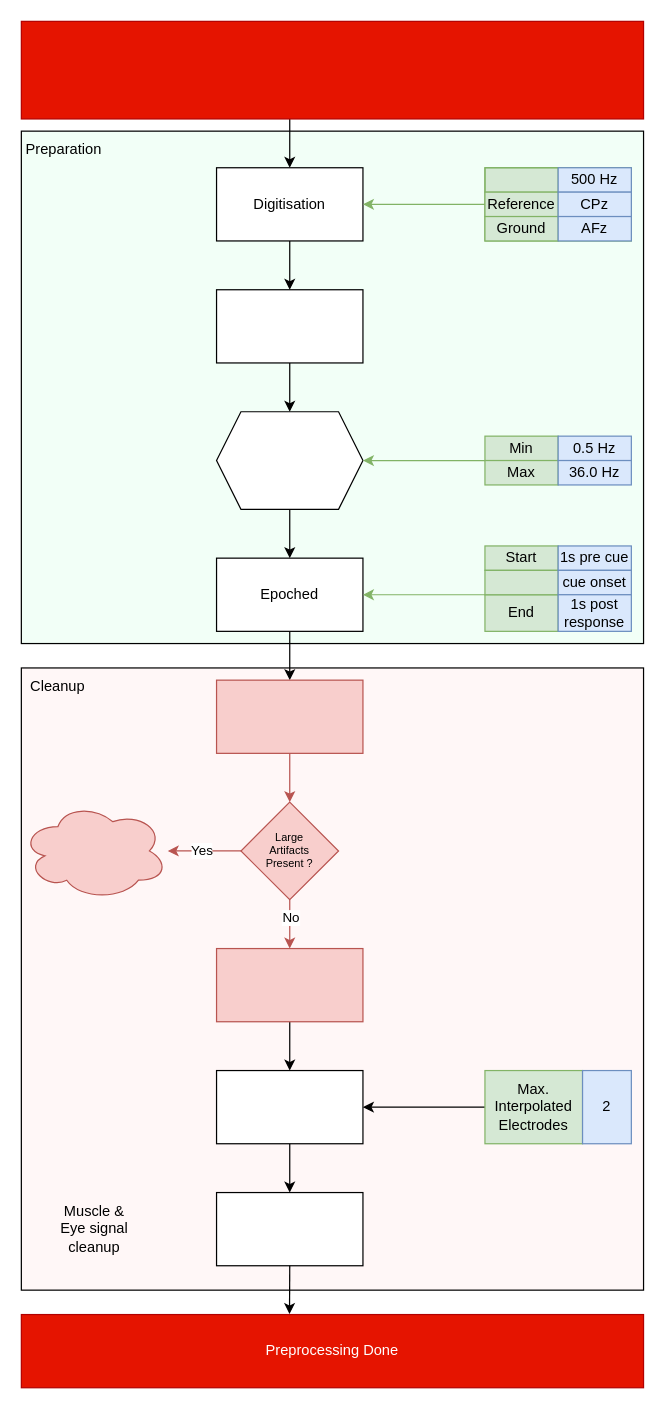
Some shapes in this 665 by 1409 pixel diagram are drawn without their labels. The shapes that lost their labels are listed below. From the top down, each one's box as (x1, y1, x2, y2) in pixels, then its label:
(20, 20, 644, 119): Recording 64 channel eego TM sports mobile eeg system
(484, 167, 558, 192): Frequency
(215, 289, 363, 363): Detrending
(215, 411, 363, 509): Bandpass Filter
(484, 569, 558, 595): Nullpunkt
(215, 679, 363, 753): Artifact Inspection
(20, 801, 168, 900): Discard
(215, 947, 363, 1022): Identify Corrupted Electrodes
(215, 1069, 363, 1144): Interpolate Corrupted Electrodes
(215, 1191, 363, 1266): FastICA
